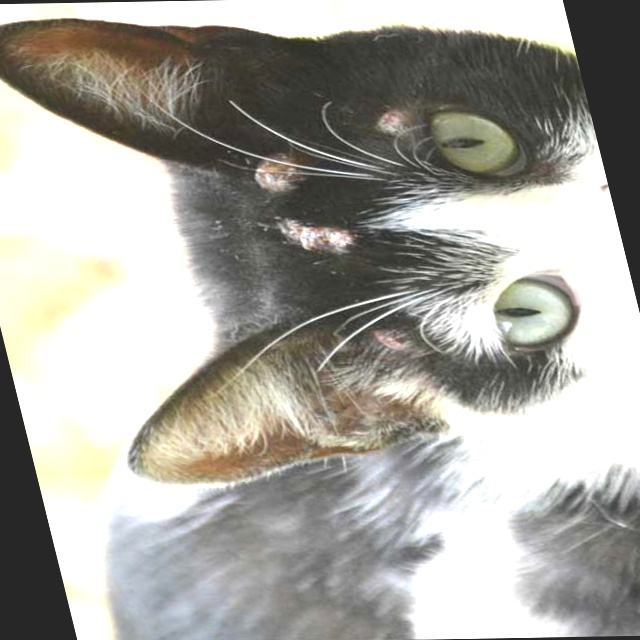lump_and_bump: (290, 222, 358, 254), (254, 157, 298, 184), (372, 107, 409, 133), (376, 329, 411, 350)
